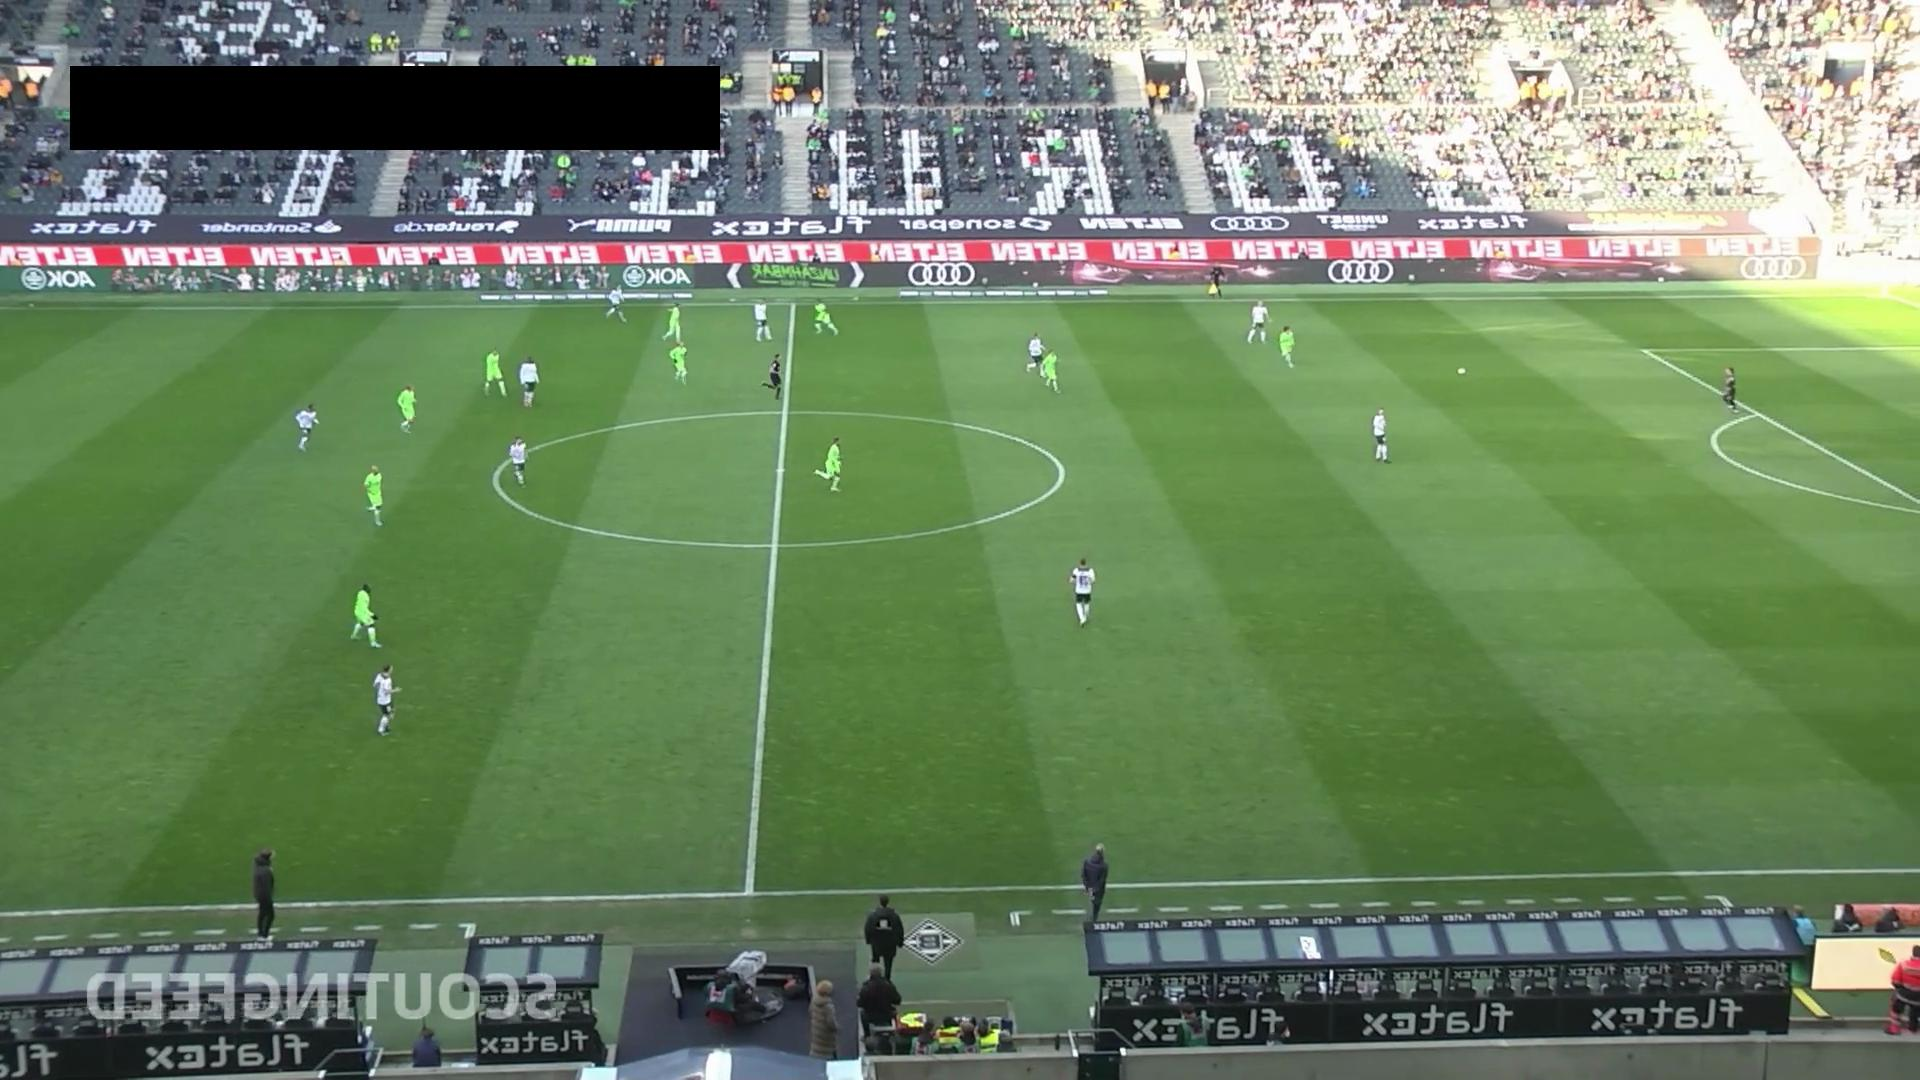ball: (1456, 366, 1468, 377)
goalkeeper: (1721, 366, 1742, 418)
player: (370, 662, 404, 738), (350, 582, 381, 648), (1068, 556, 1096, 626), (813, 437, 847, 494), (363, 464, 385, 528), (294, 402, 320, 451), (484, 348, 509, 398), (518, 354, 540, 408), (1246, 299, 1270, 345), (661, 302, 684, 347), (397, 383, 417, 434), (751, 297, 773, 342), (1372, 408, 1390, 462), (813, 300, 839, 337), (509, 435, 527, 486), (604, 285, 628, 323), (1041, 349, 1061, 394), (669, 341, 688, 385), (1278, 324, 1295, 369), (1027, 332, 1045, 374)
referee: (758, 353, 784, 402), (1207, 262, 1227, 301)
